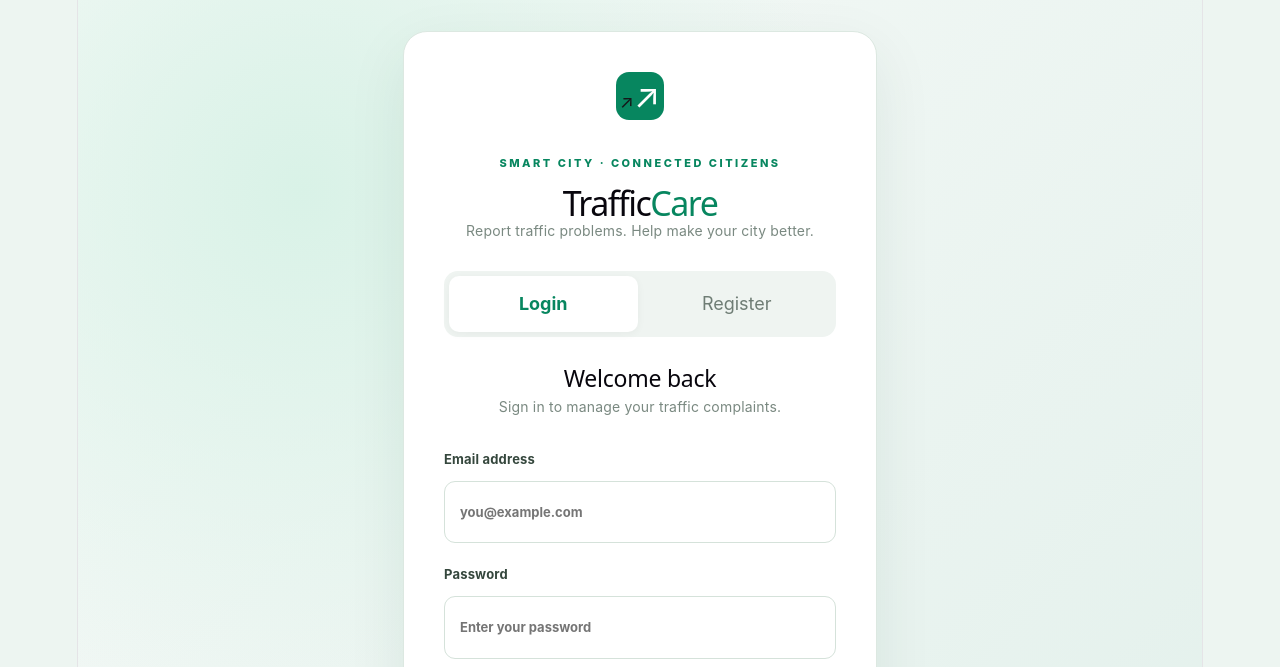
Test: TrafficCare App › logs in and displays the citizen dashboard
Type "test@example.com" into the field with placeholder "you@example.com" at (640, 512), box [444, 481, 836, 543]
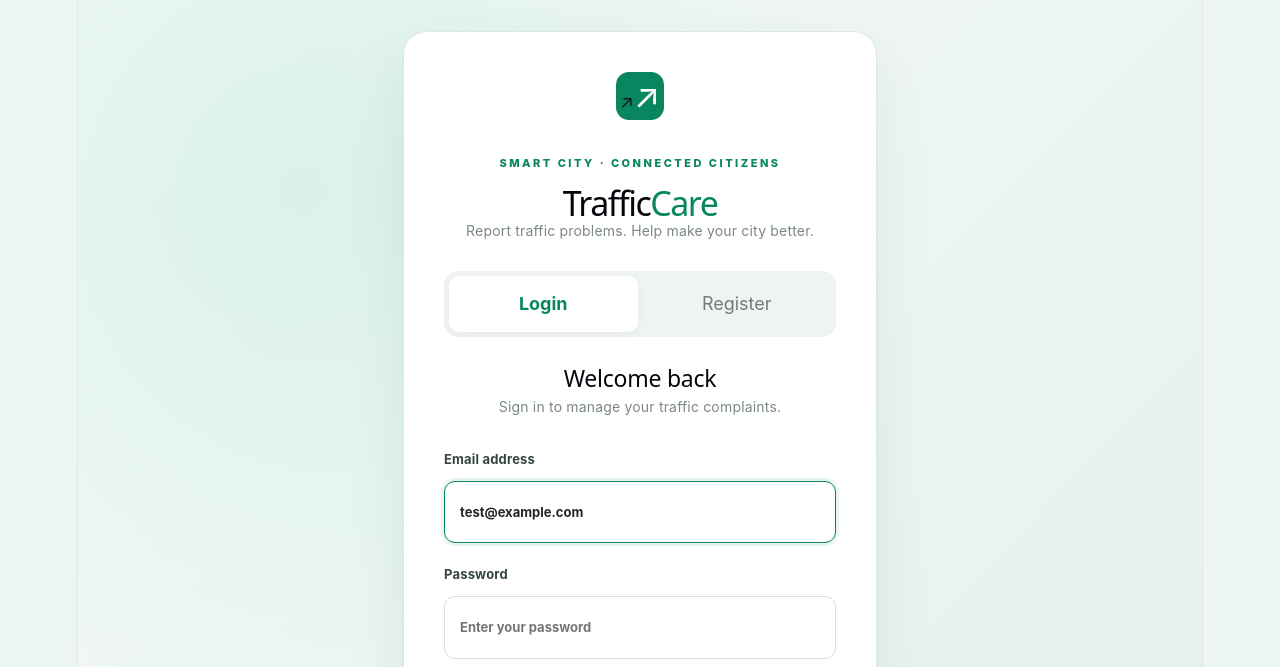
Type "password123" into the password field with placeholder "Enter your password" at (640, 628), box [444, 596, 836, 659]
(page scrolled)
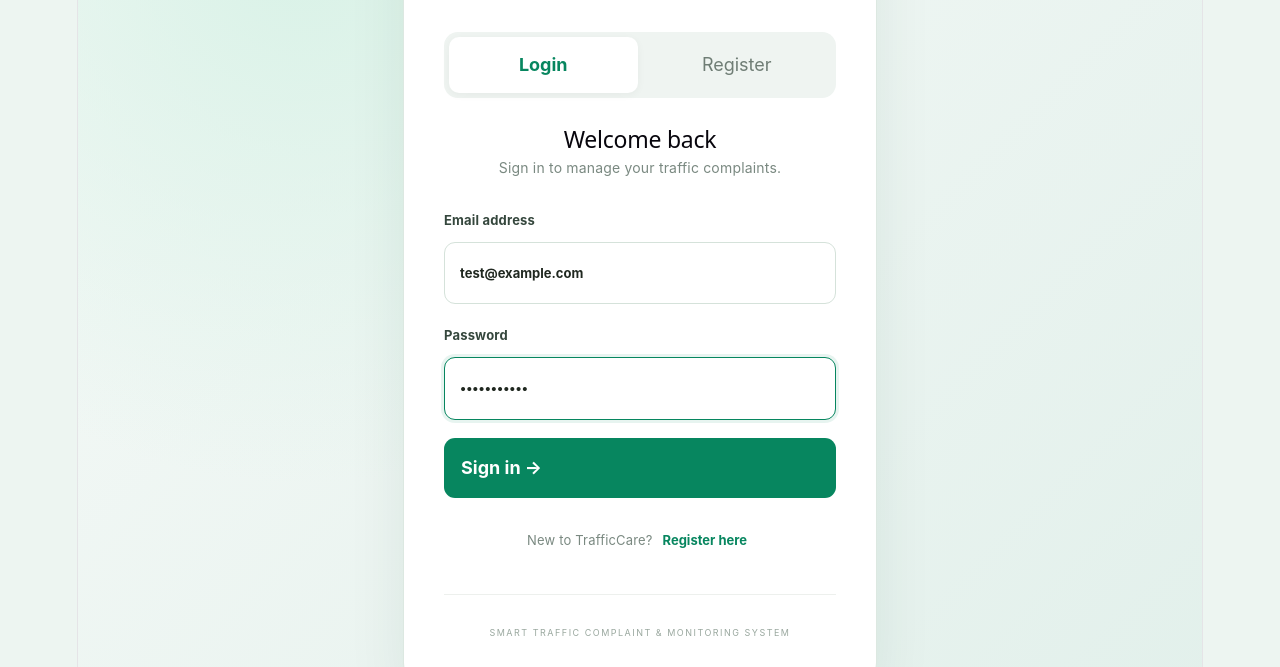
Click the button "Sign in →" at (502, 467), box [444, 438, 836, 498]
(page scrolled)
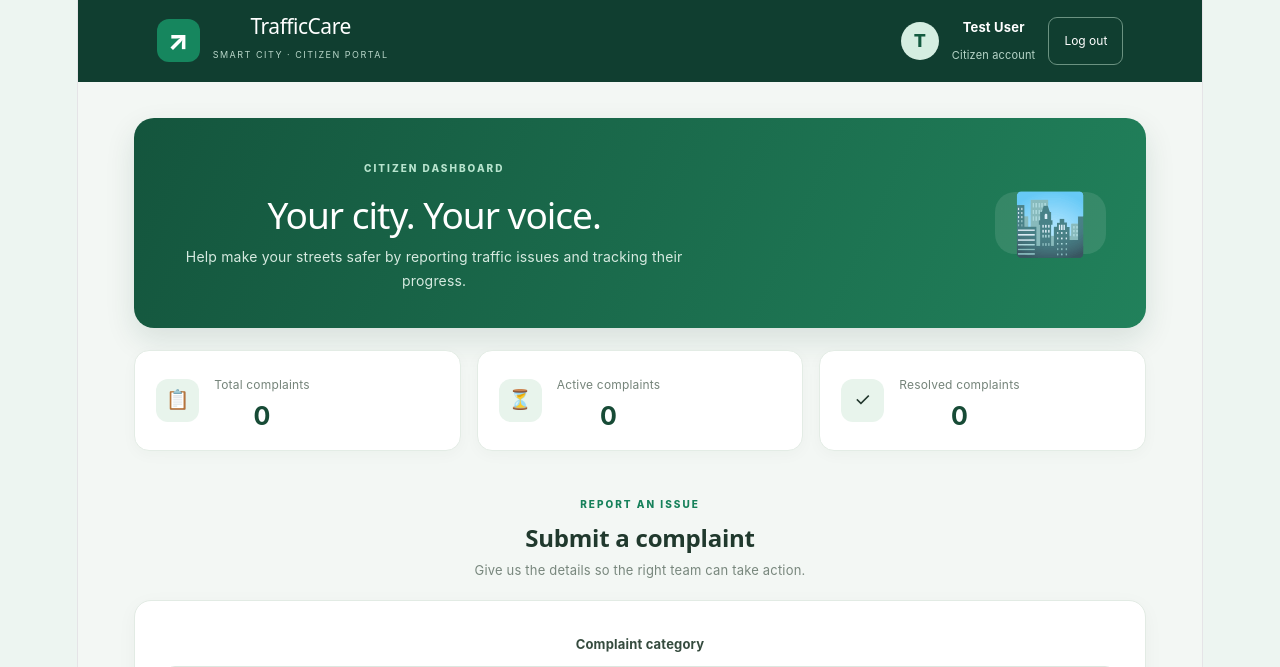
Expected: the heading "Your city. Your voice." is shown, [268, 189, 601, 240]
